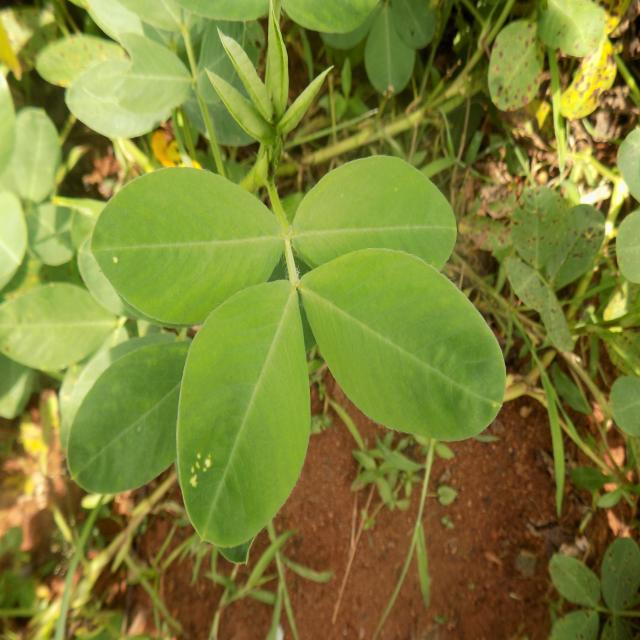Ground nut_healthy: (302, 251, 505, 449), (178, 275, 311, 550), (95, 164, 287, 323), (286, 152, 456, 282)
